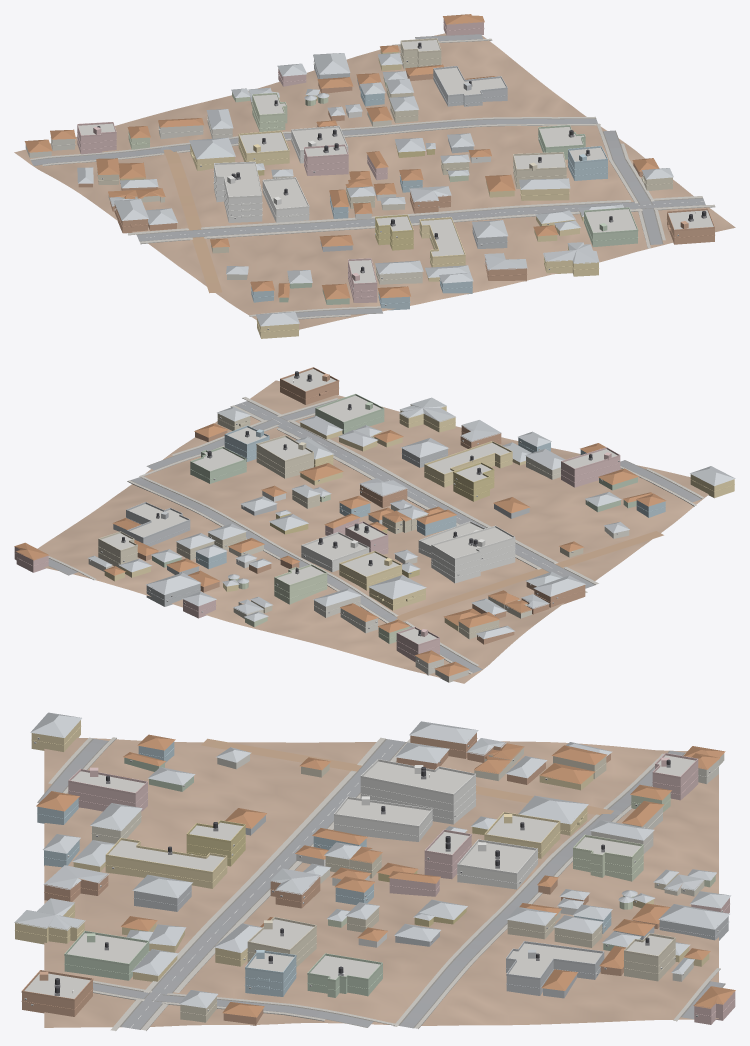
3 views of the same model, one above another, from view 1: azimuth 30°, elevation 25°; view 2: azimuth 150°, elevation 25°; view 3: azimuth 270°, elevation 25° (orthographic). The views are drawn at different scales.
Visible parts, largest first — view 1: Buildings-col, Terrain-col, Roads-col, Details, Sidewalks-col; view 2: Buildings-col, Terrain-col, Roads-col, Details, Sidewalks-col; view 3: Buildings-col, Terrain-col, Roads-col, Details, Sidewalks-col.
Part boxes in pixels (<box>): Buildings-col: <box>24,14,714,338</box>; Terrain-col: <box>14,33,735,329</box>; Roads-col: <box>31,34,705,317</box>; Details: <box>50,22,715,332</box>; Sidewalks-col: <box>30,38,715,319</box>; Buildings-col: <box>14,369,735,682</box>; Terrain-col: <box>37,380,708,683</box>; Roads-col: <box>48,398,701,673</box>; Details: <box>14,367,734,669</box>; Sidewalks-col: <box>48,397,704,673</box>; Buildings-col: <box>14,712,735,1025</box>; Terrain-col: <box>44,737,718,1027</box>; Roads-col: <box>37,738,725,1029</box>; Details: <box>15,726,734,1016</box>; Sidewalks-col: <box>48,737,720,1030</box>.
Size of the model in its own units: 269 by 20.72 by 274.
